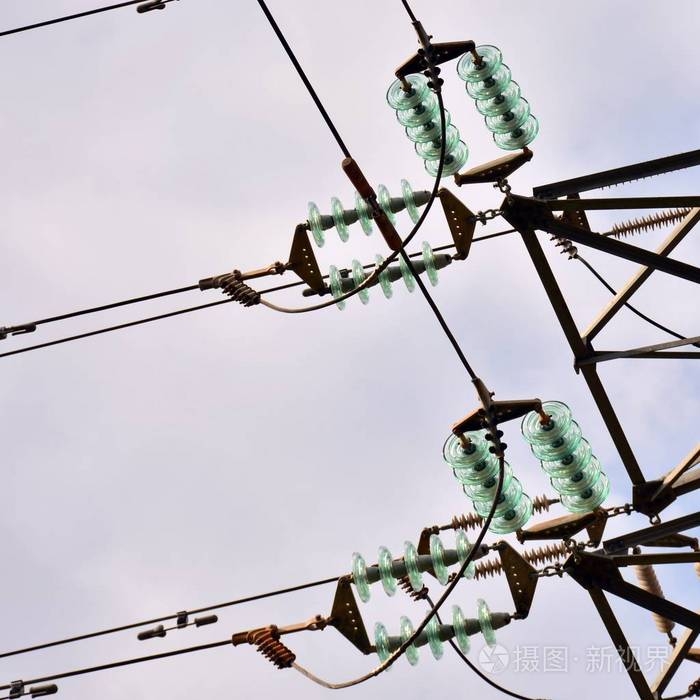insulator: (518, 398, 610, 513), (456, 40, 539, 154), (444, 428, 533, 532), (350, 531, 478, 601), (374, 601, 498, 672), (384, 74, 468, 178), (307, 178, 425, 246), (330, 245, 443, 311)
